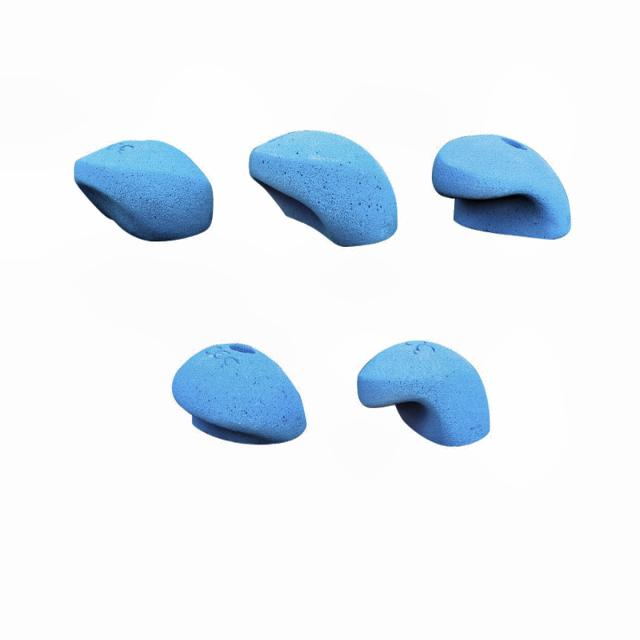Hold: (247, 127, 404, 249), (68, 138, 212, 243), (431, 136, 571, 240), (172, 342, 313, 445), (356, 342, 492, 446)
